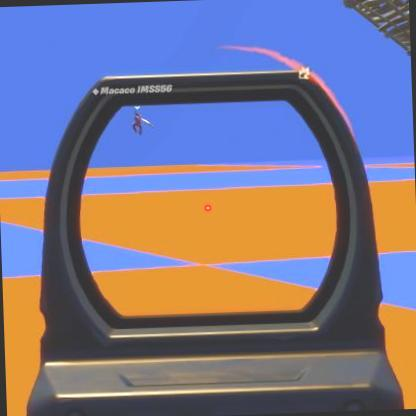person: (130, 110, 142, 134)
